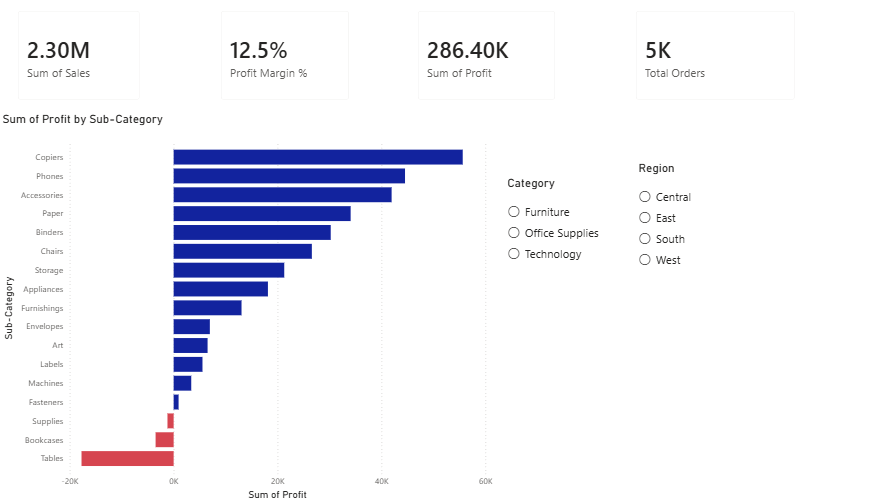

The page's visual inventory and layout, read from the dashboard file:
{"tool":"powerbi","page":{"name":"Executive Overview","canvas":[1280,720],"ordinal":0},"visuals":[{"type":"cardVisual","fields":{"Data":["Sum(superstore_powerbi_import.Sales)"]},"box":[10,0,208.8,161.2],"z":0},{"type":"cardVisual","fields":{"Data":["Sum(superstore_powerbi_import.Profit)"]},"box":[581.2,0,230,161.2],"z":1000},{"type":"cardVisual","fields":{"Data":["superstore_powerbi_import.Profit Margin %"]},"box":[300,0,217.5,161.2],"z":2000},{"type":"cardVisual","fields":{"Data":["superstore_powerbi_import.Total Orders"]},"box":[892.5,0,261.2,161.2],"z":3000},{"type":"clusteredBarChart","fields":{"Category":["superstore_powerbi_import.Sub-Category"],"Y":["Sum(superstore_powerbi_import.Profit)"]},"box":[0,161.2,710,558.8],"z":4000},{"type":"listSlicer","fields":{"Values":["superstore_powerbi_import.Region"]},"box":[908.8,231.2,187.5,163.8],"z":5000},{"type":"listSlicer","fields":{"Values":["superstore_powerbi_import.Category"]},"box":[721.2,252.5,156.2,131.2],"z":6000}]}

Visuals, with their boxes in screenshot pixels (x1, y1, x2, y2), scaled from the page's 1280x720 canvas onto the 894x501 screenshot:
cardVisual - Sum(superstore_powerbi_import.Sales): 7/0/153/112
cardVisual - Sum(superstore_powerbi_import.Profit): 406/0/567/112
cardVisual - superstore_powerbi_import.Profit Margin %: 210/0/361/112
cardVisual - superstore_powerbi_import.Total Orders: 623/0/806/112
clusteredBarChart - superstore_powerbi_import.Sub-Category x Sum(superstore_powerbi_import.Profit): 0/112/496/500
listSlicer - superstore_powerbi_import.Region: 635/161/766/275
listSlicer - superstore_powerbi_import.Category: 504/176/613/267
